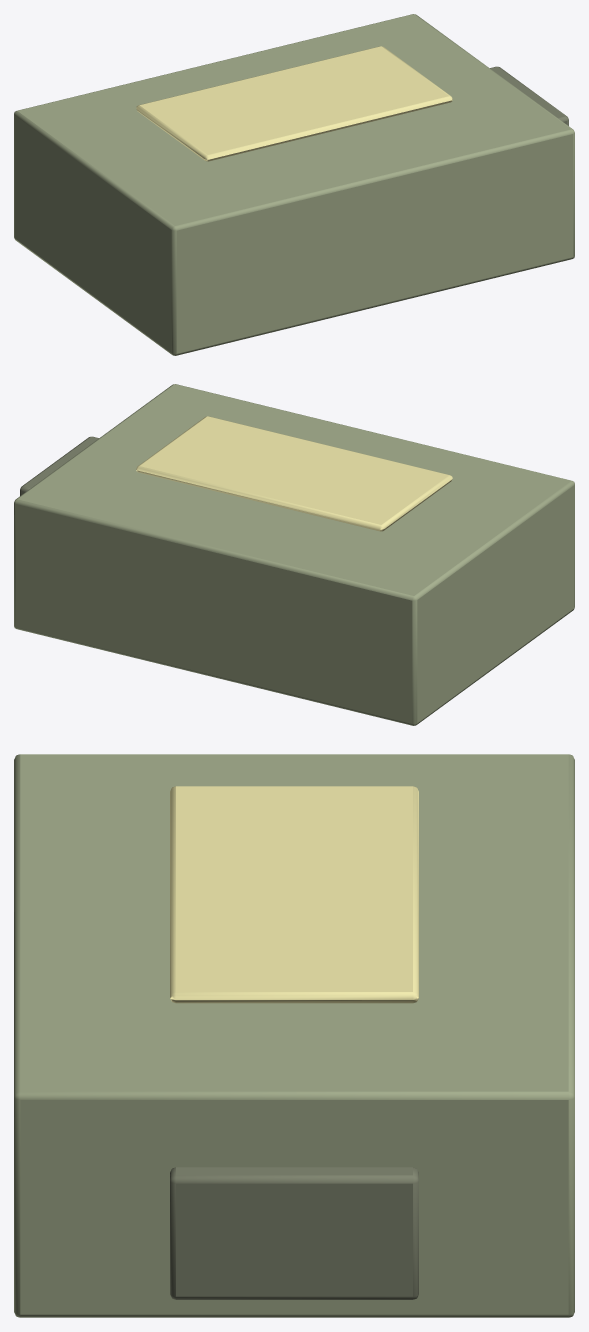
Rendered from SM_FOD_FIELD_RATION.fbx.
3 views of the same model, one above another, from view 1: azimuth 30°, elevation 25°; view 2: azimuth 150°, elevation 25°; view 3: azimuth 270°, elevation 25° (orthographic). The views are drawn at different scales.
Parts seen in each view (by area): view 1: SM_FOD_FIELD_RATION; view 2: SM_FOD_FIELD_RATION; view 3: SM_FOD_FIELD_RATION.
Part boxes in pixels (x1=…): SM_FOD_FIELD_RATION: x1=14, y1=14, x2=574, y2=355; SM_FOD_FIELD_RATION: x1=14, y1=384, x2=574, y2=725; SM_FOD_FIELD_RATION: x1=14, y1=754, x2=574, y2=1317.
Size of what is drawn, in the model's own units: 0.1425 by 0.046 by 0.09.
